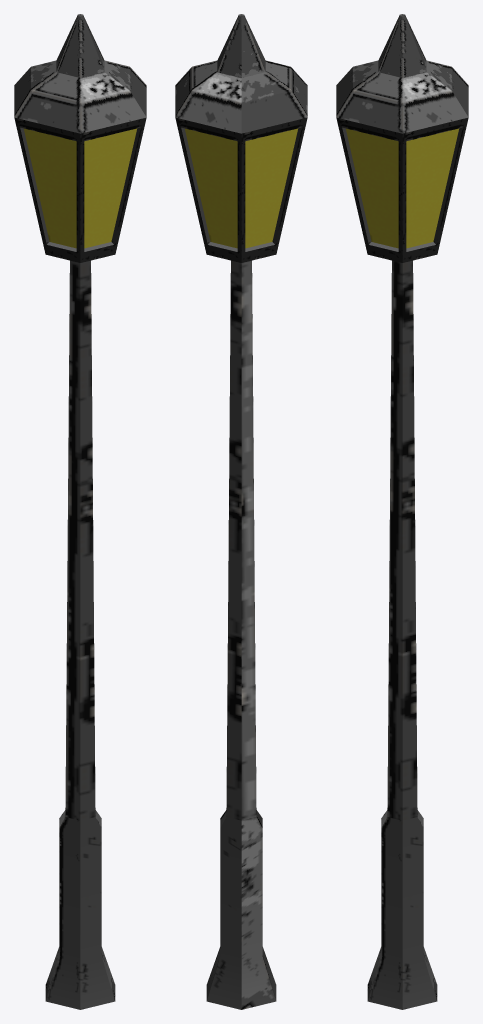
Rendered from StreetLamp.fbx.
The picture shows the model from 3 angles, left to right: view 1: azimuth 90°, elevation 25°; view 2: azimuth 210°, elevation 25°; view 3: azimuth 270°, elevation 25°; orthographic projection.
Parts seen in each view (by area): view 1: pCylinder1; view 2: pCylinder1; view 3: pCylinder1.
Boxes of the visible parts, left/top/right/bottom form: pCylinder1: left=14, top=14, right=146, bottom=1009; pCylinder1: left=175, top=14, right=307, bottom=1009; pCylinder1: left=336, top=14, right=468, bottom=1009.
Bounding box in the file's own units: 83.16 × 587 × 72.02.
